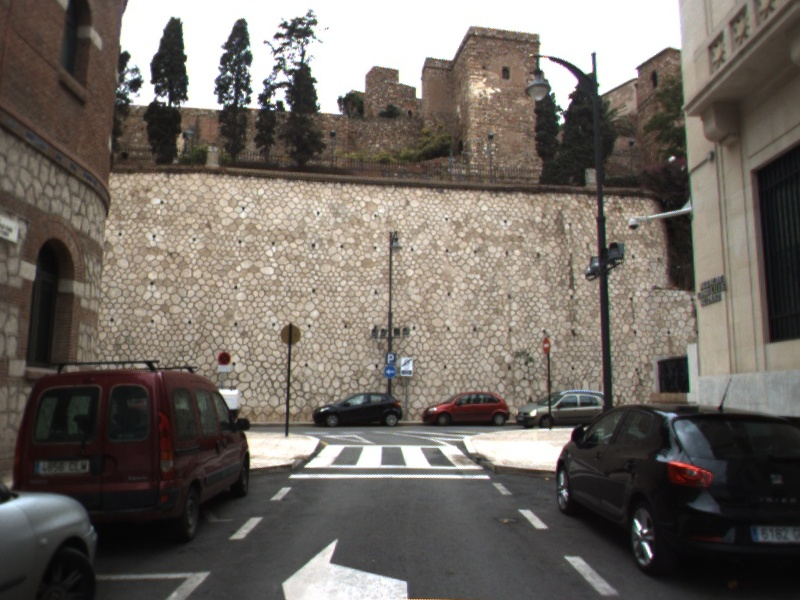LEFT: (279, 537, 409, 600)
